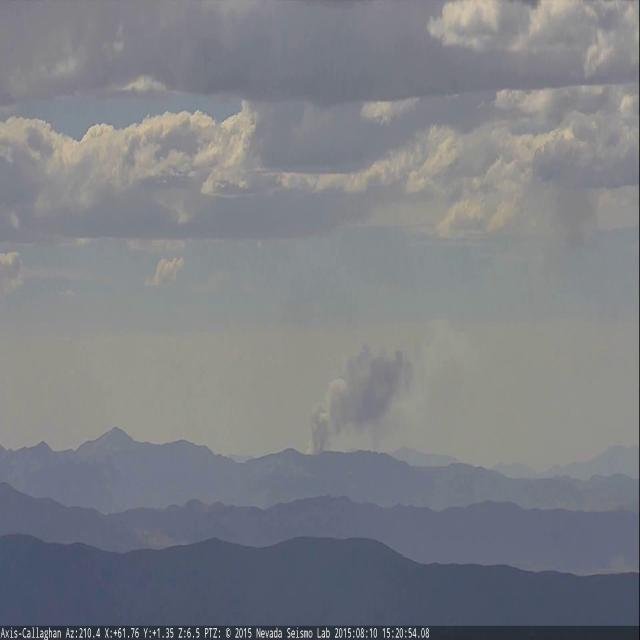smoke: (306, 325, 442, 461)
